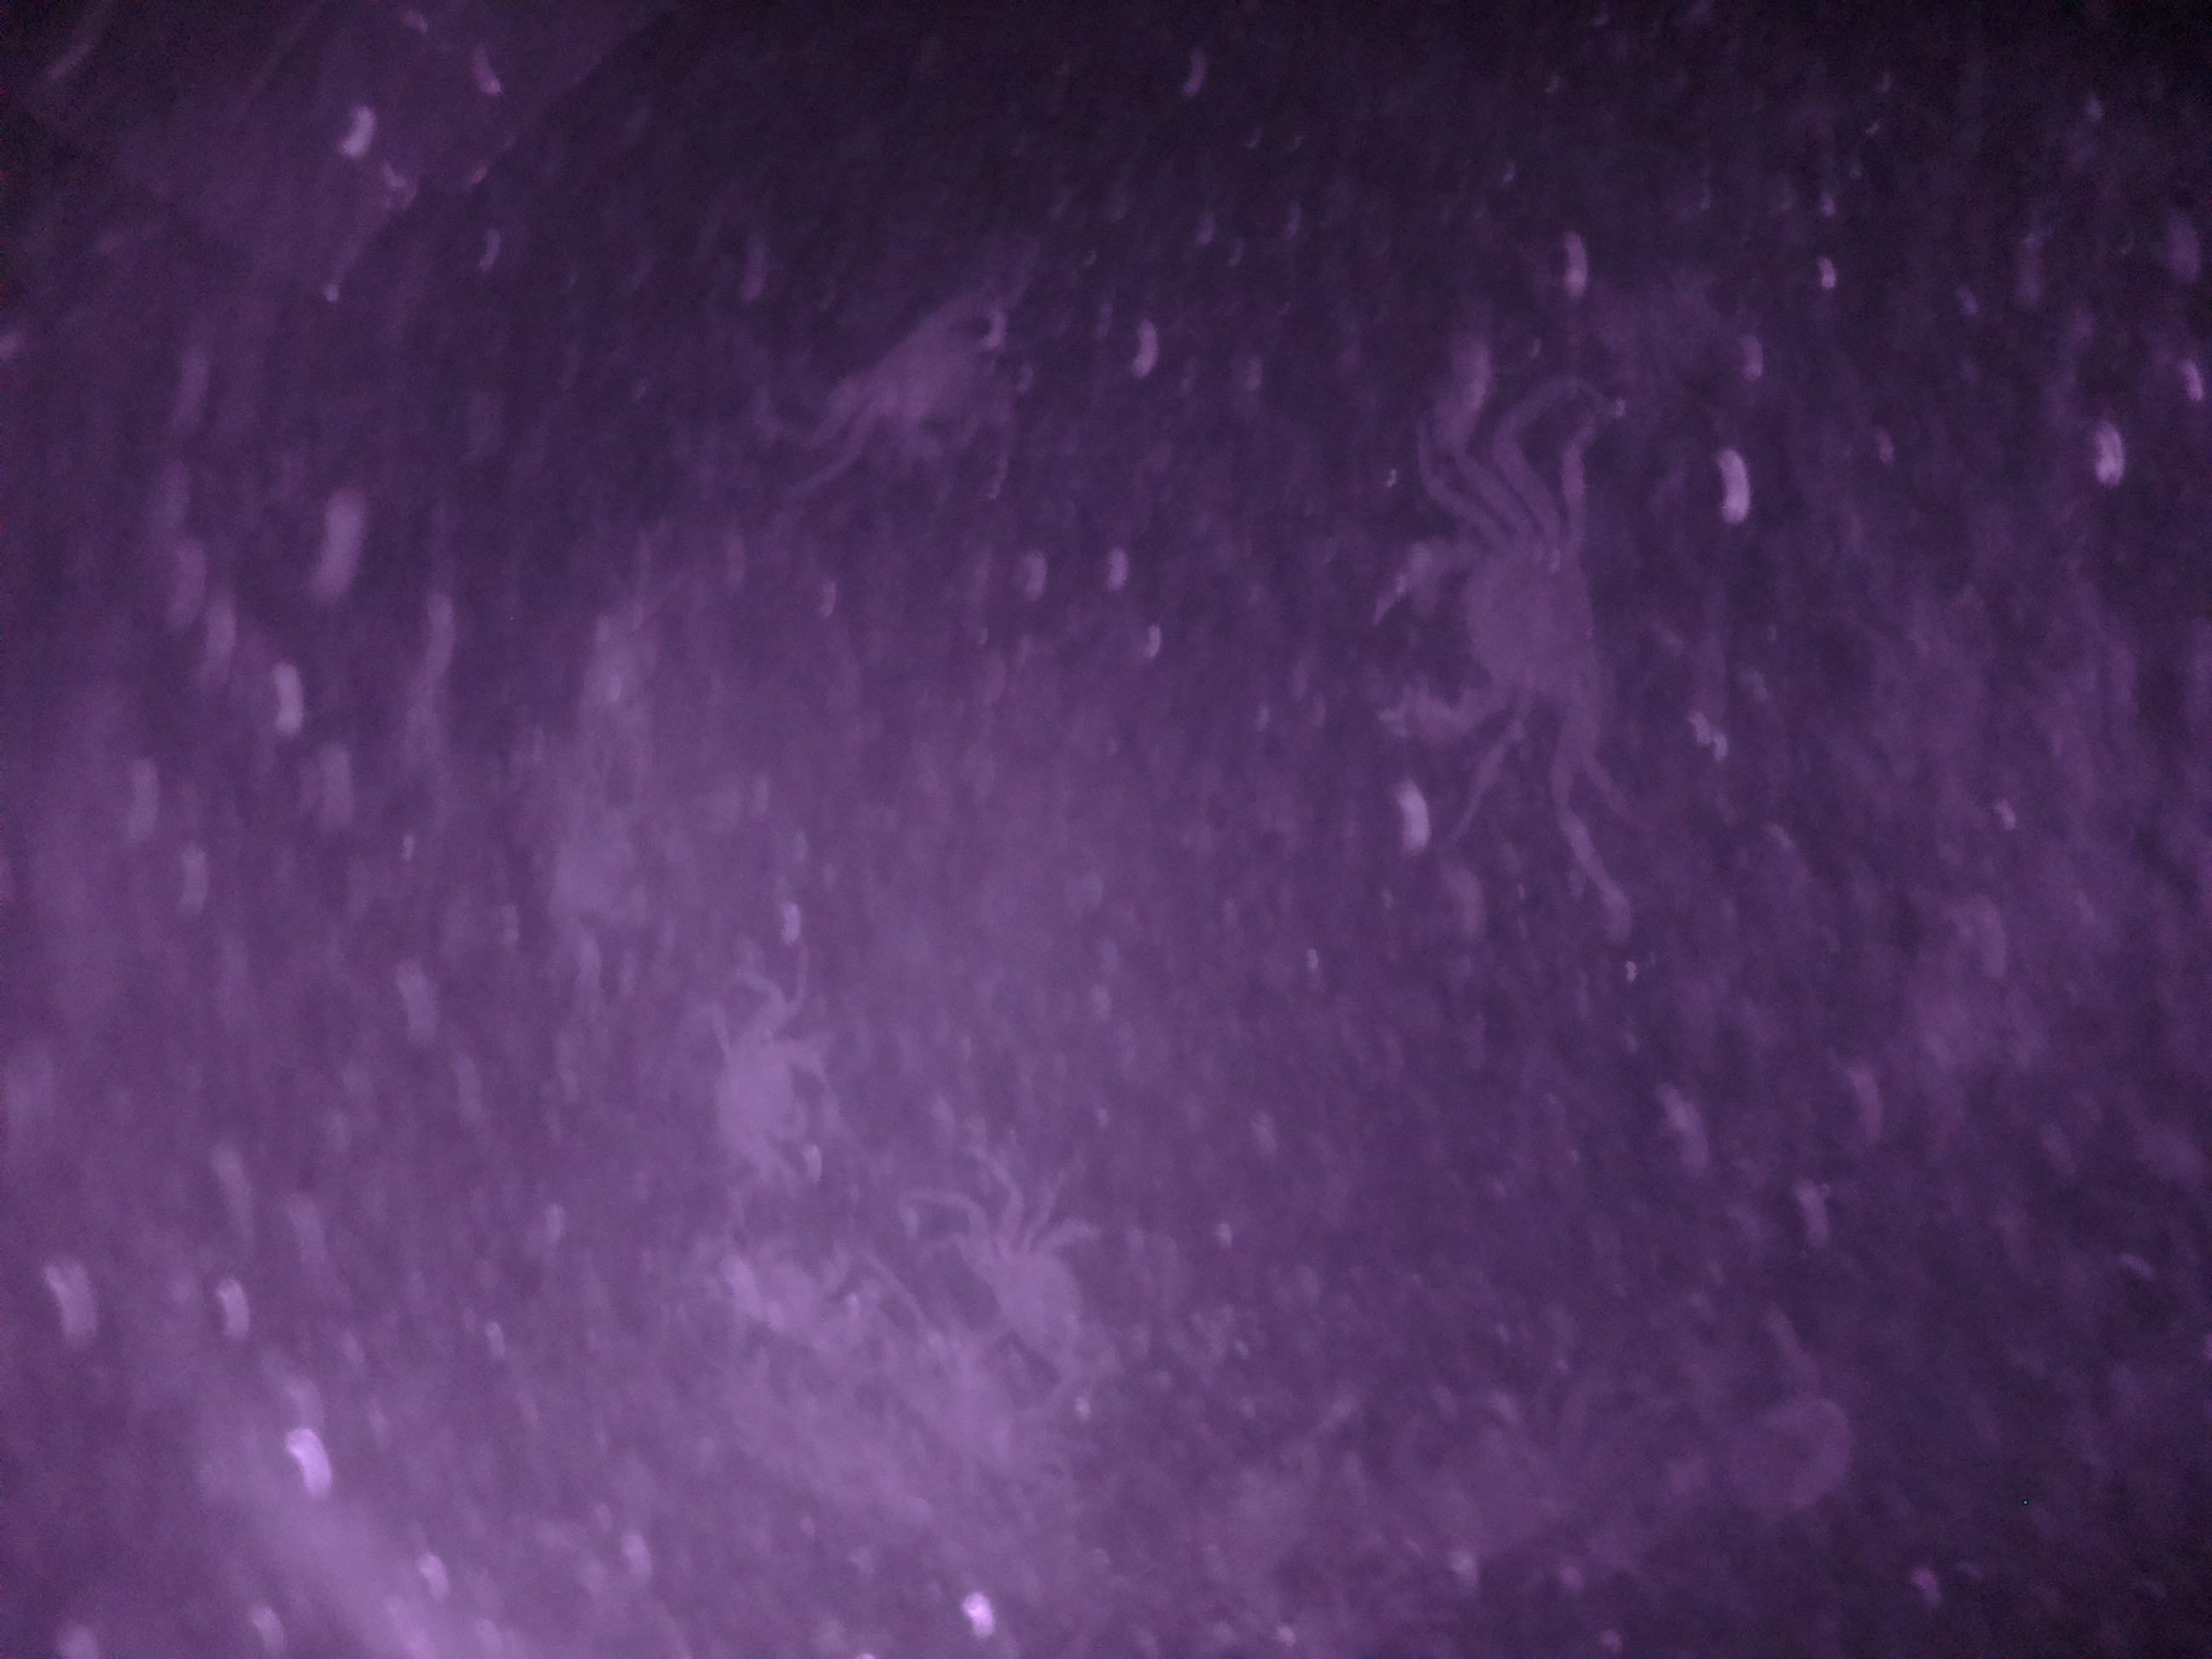Crab: (1376, 486, 1639, 796)
